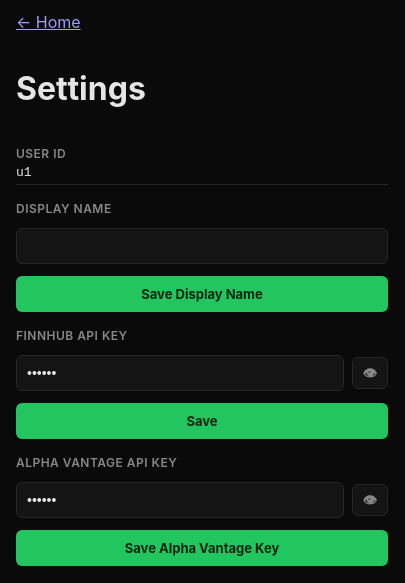
Test: SettingsPage › keys are hidden by default and reveal on toggling the show/hide icon
The width and height of the screenshot is (405, 583).
Click the button named "show finnhub api key": (370, 373) [352,357,388,389]
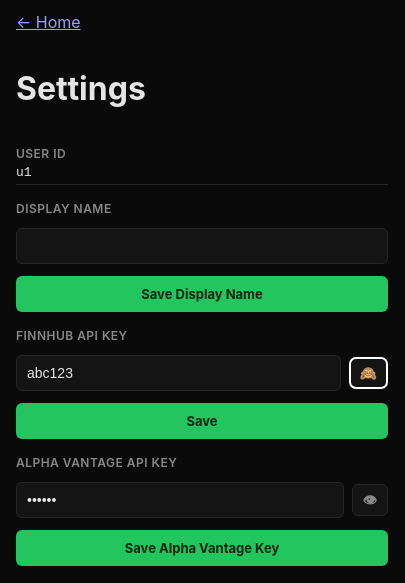
Expected: the field labelled "Finnhub API Key" shows its text, [16,355,340,391]
Click the button named "hide finnhub api key": (368, 373) [348,357,388,389]
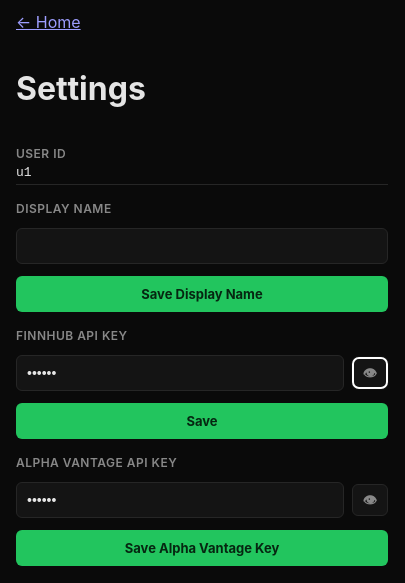
Expected: the password field labelled "Finnhub API Key" hides its text, [16,355,344,391]
